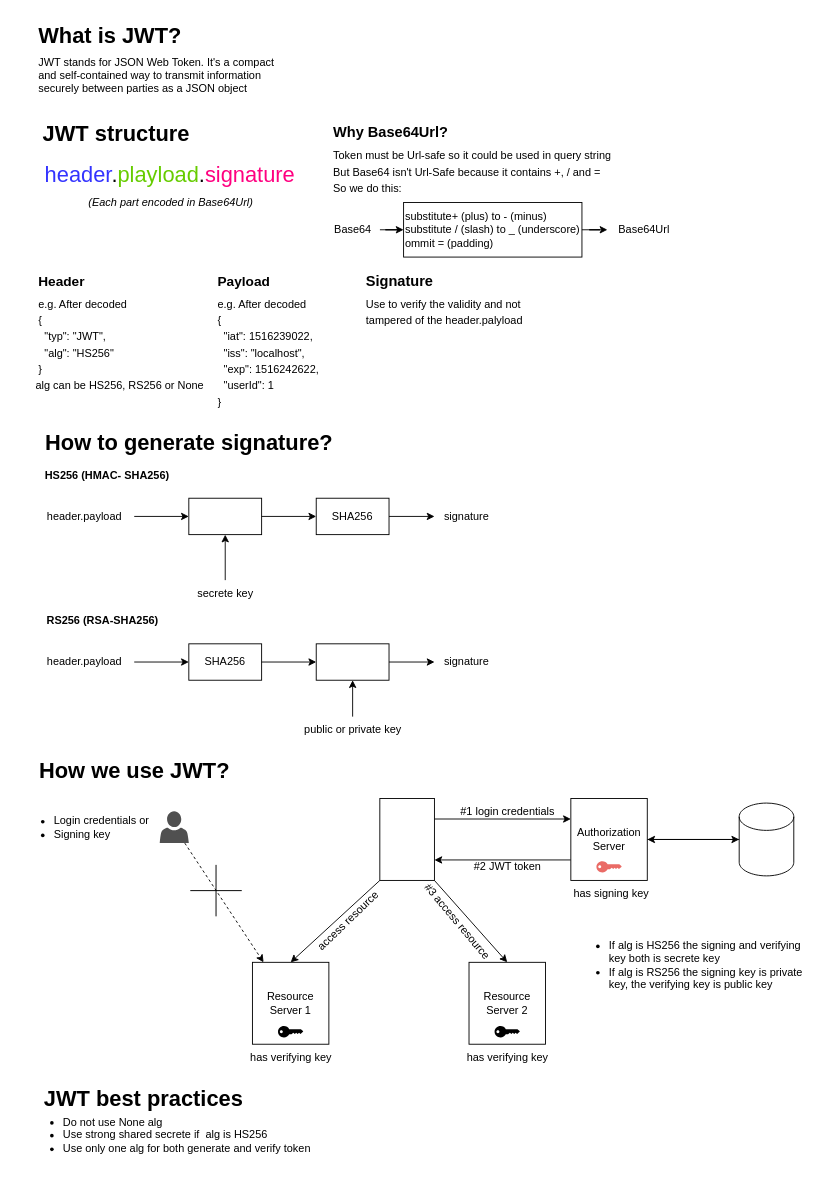
The diagram is 823 pixels wide and 1187 high, and some of its shapes have lost their labels. Here are the shapes that lost their labels. From the top down, the centre of each, then its label:
At [225,516]: "HMAC".
At [352,661]: "RSA".
At [406,839]: "Client".
